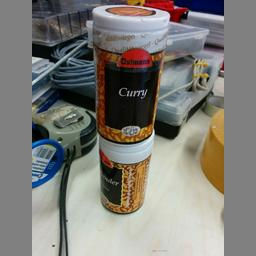spices: (92, 4, 170, 150), (98, 140, 156, 214)
